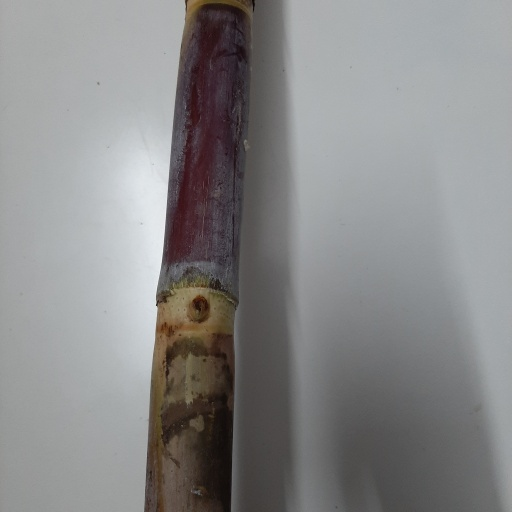Bud: (188, 294, 210, 325)
